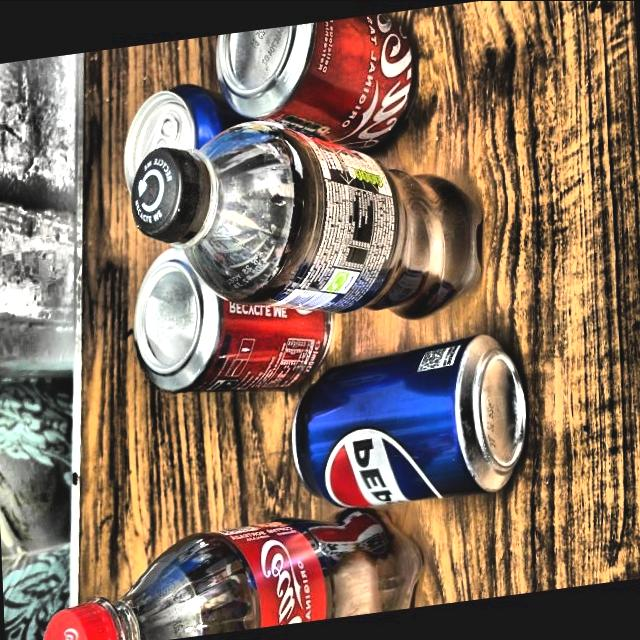coke-bottle: (50, 514, 413, 640)
coke-can: (222, 18, 419, 164), (132, 257, 324, 393)
pepsi-bottle: (134, 130, 470, 314)
pepsi-can: (298, 338, 532, 508), (132, 86, 248, 194)
